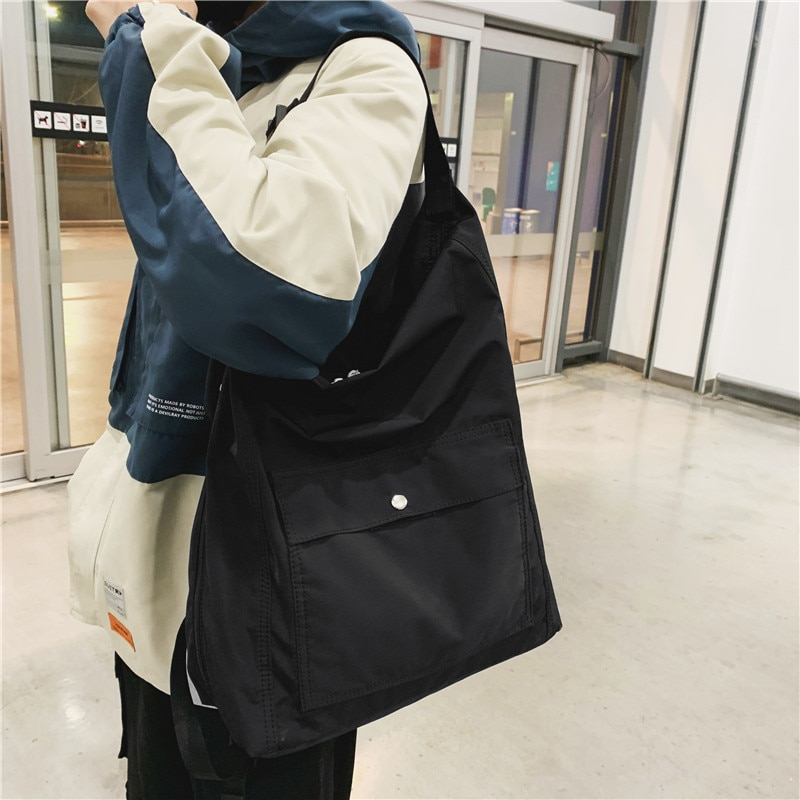Men's Backpacks: (169, 127, 563, 779)
Tops: (53, 2, 427, 692)
